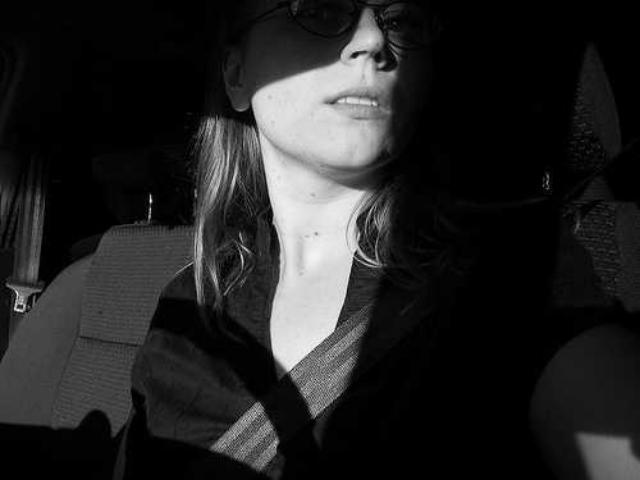Seatbelt: (207, 296, 373, 476)
